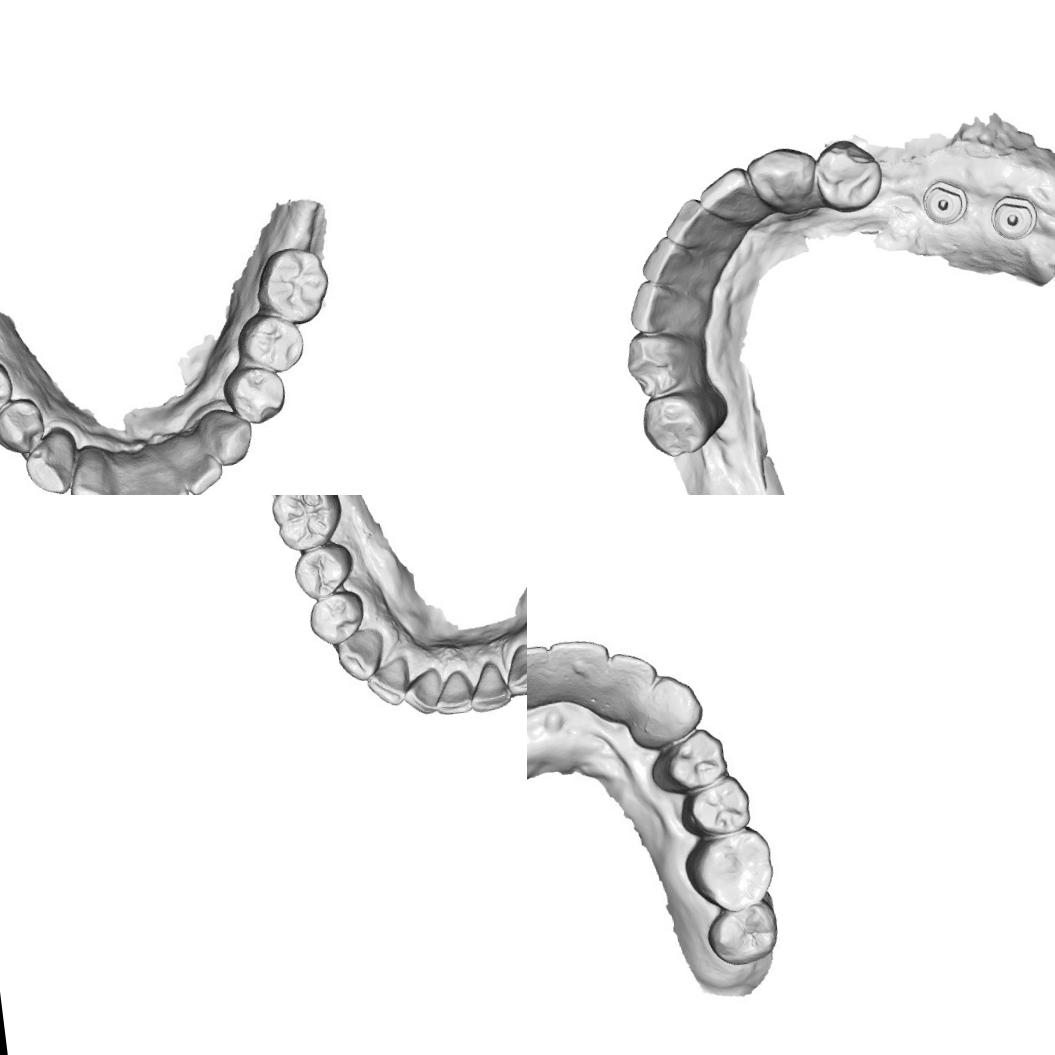canine: (621, 326, 705, 402), (745, 143, 820, 223), (634, 672, 706, 744), (200, 402, 260, 470), (21, 432, 75, 495), (334, 628, 382, 680), (498, 641, 527, 699)
implant: (985, 188, 1050, 247), (922, 174, 970, 230)
incisor: (550, 637, 615, 699), (622, 276, 684, 340), (168, 424, 222, 495), (693, 164, 758, 222), (636, 230, 698, 290), (660, 195, 715, 252), (604, 652, 657, 709), (366, 656, 414, 710), (145, 437, 188, 495), (398, 668, 444, 718), (468, 658, 508, 714), (68, 447, 113, 495), (433, 668, 474, 718), (527, 642, 556, 708), (110, 453, 149, 495)
molar: (680, 823, 776, 918), (258, 244, 330, 327), (703, 902, 780, 970), (267, 495, 344, 547)
premolar: (638, 386, 724, 461), (810, 136, 884, 216), (662, 724, 729, 793), (684, 773, 753, 839), (240, 312, 307, 375), (228, 364, 285, 423), (0, 395, 50, 455), (294, 545, 347, 597), (310, 594, 361, 640), (0, 362, 13, 418)
